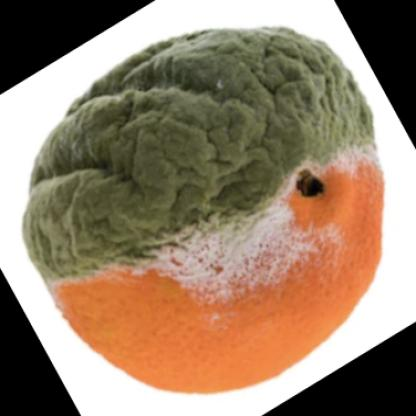rotten: (25, 29, 384, 394)
